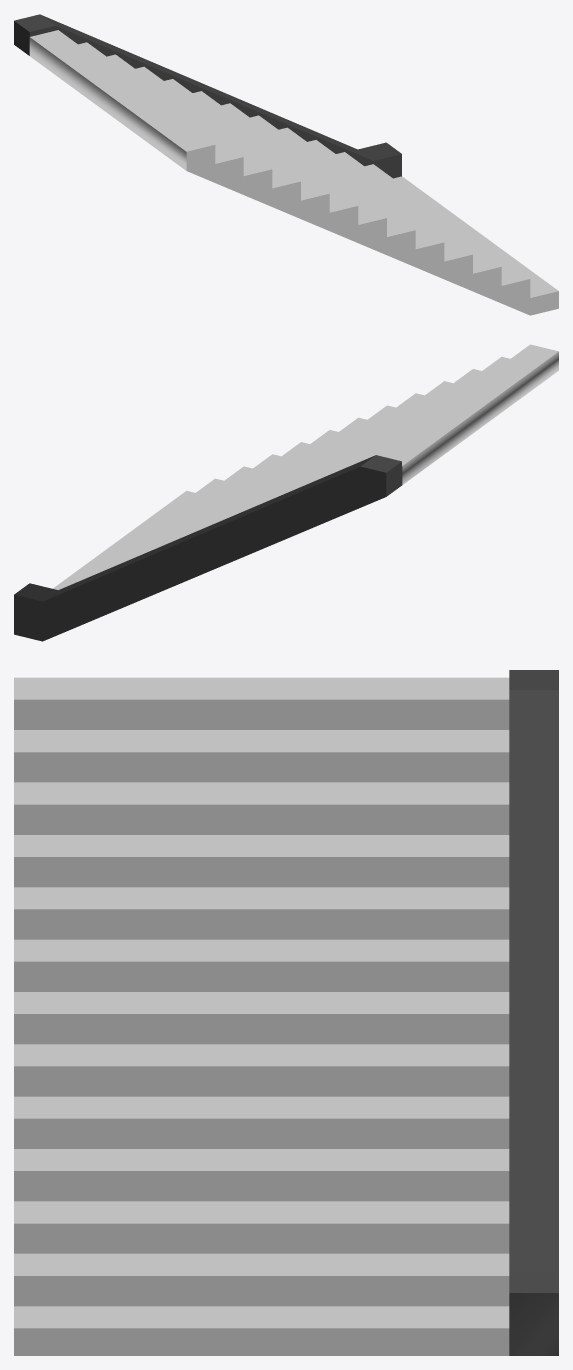
Rendered from Kinder3_Stair.fbx.
3 views of the same model, one above another, from view 1: azimuth 30°, elevation 25°; view 2: azimuth 150°, elevation 25°; view 3: azimuth 270°, elevation 25° (orthographic). The views are drawn at different scales.
Visible parts, largest first — view 1: Kinder3_Stair; view 2: Kinder3_Stair; view 3: Kinder3_Stair.
Boxes of the visible parts, bbox=[...] form: Kinder3_Stair: bbox=[14, 14, 558, 315]; Kinder3_Stair: bbox=[14, 344, 558, 641]; Kinder3_Stair: bbox=[14, 670, 558, 1355].
Bounding box in the file's own units: 236 × 153 × 189.
